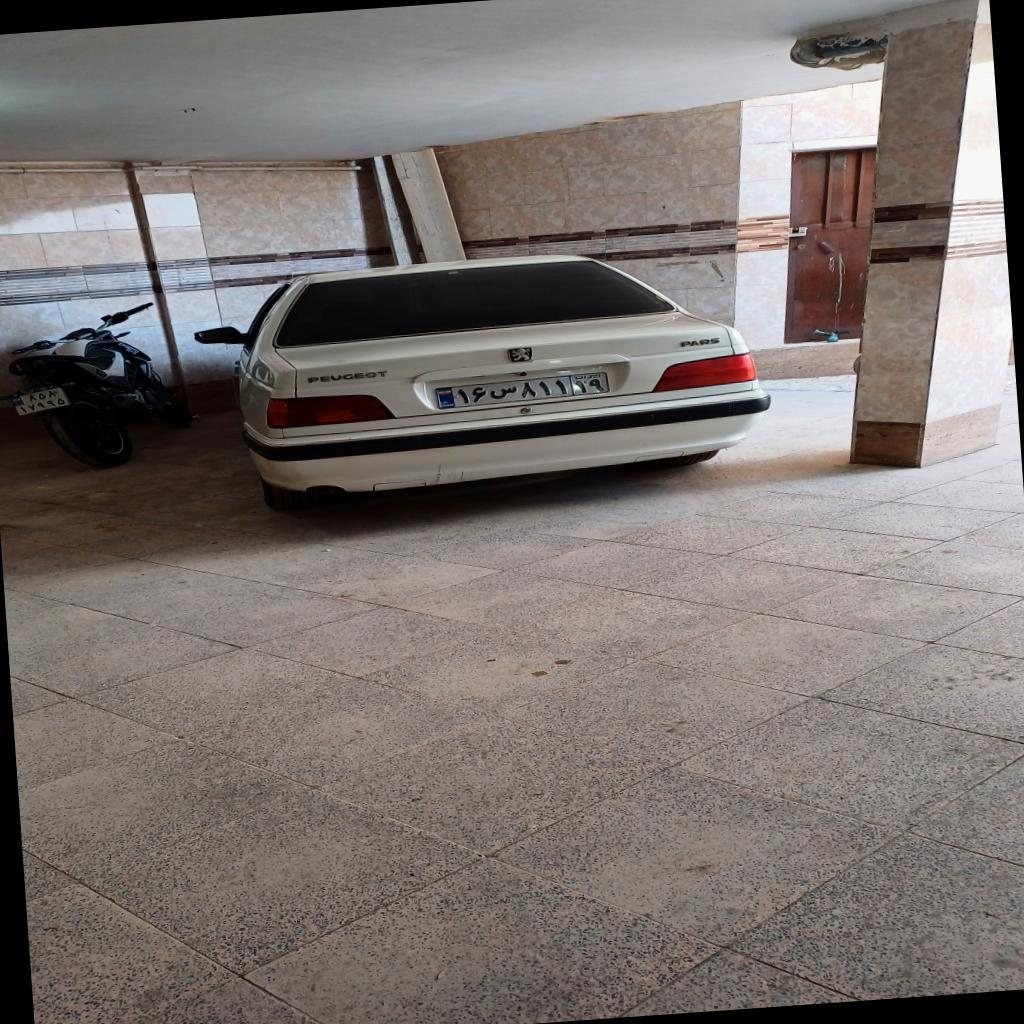Plates: (434, 370, 613, 410)
